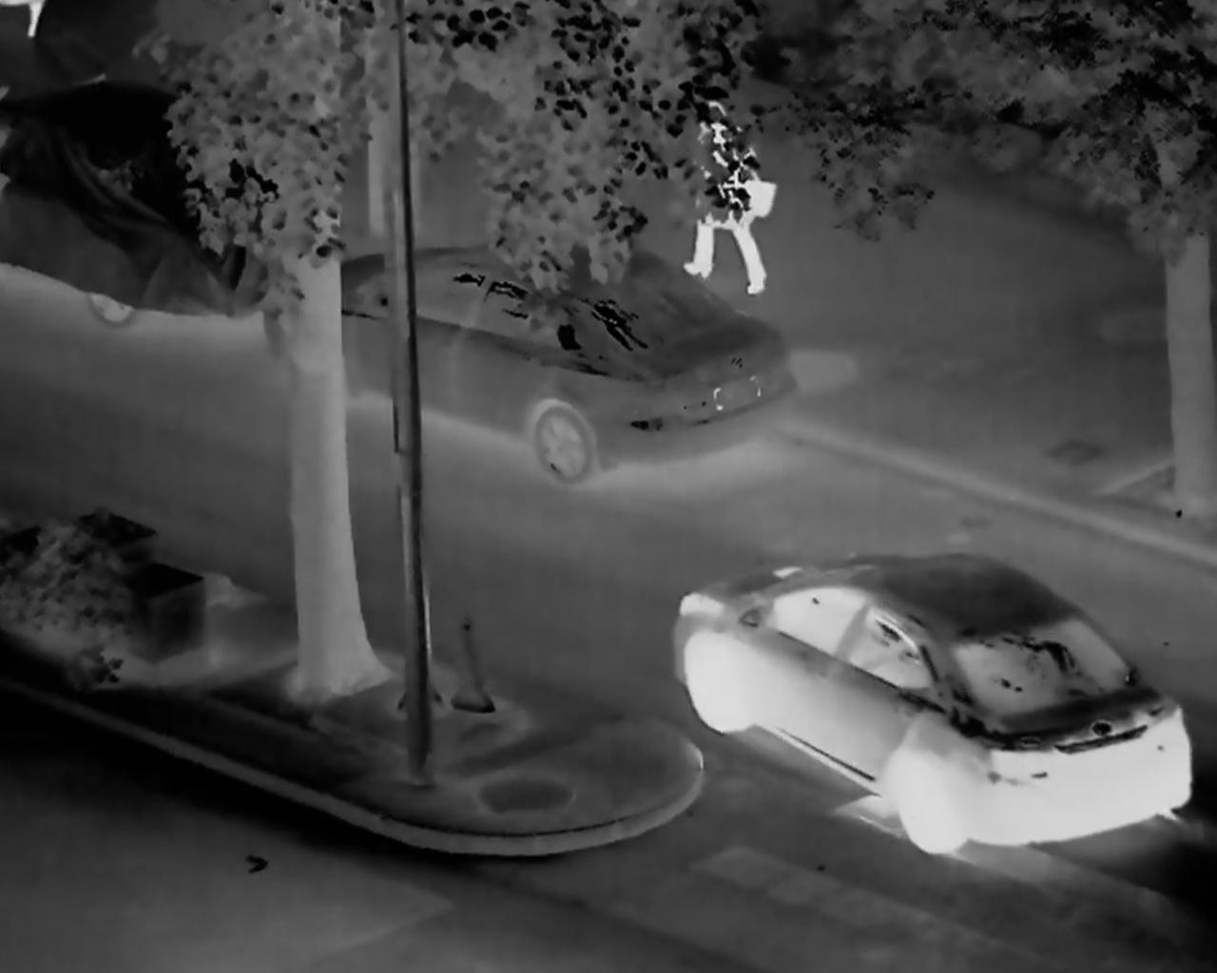person: (674, 94, 779, 302)
